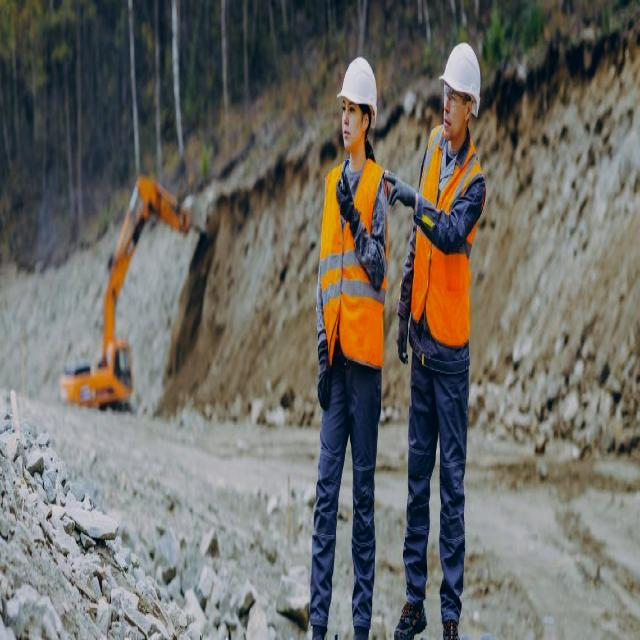face_nomask: (438, 87, 469, 149), (339, 99, 366, 151)
glasses: (441, 79, 464, 112)
hand_glove: (330, 182, 363, 232), (393, 300, 416, 364), (313, 344, 335, 408), (384, 174, 416, 209)
head_helmet: (439, 38, 483, 113), (337, 56, 379, 122)
person: (392, 39, 491, 640), (304, 52, 388, 640)
shoes: (392, 591, 429, 640)
vest: (410, 122, 483, 348), (316, 159, 386, 367)
